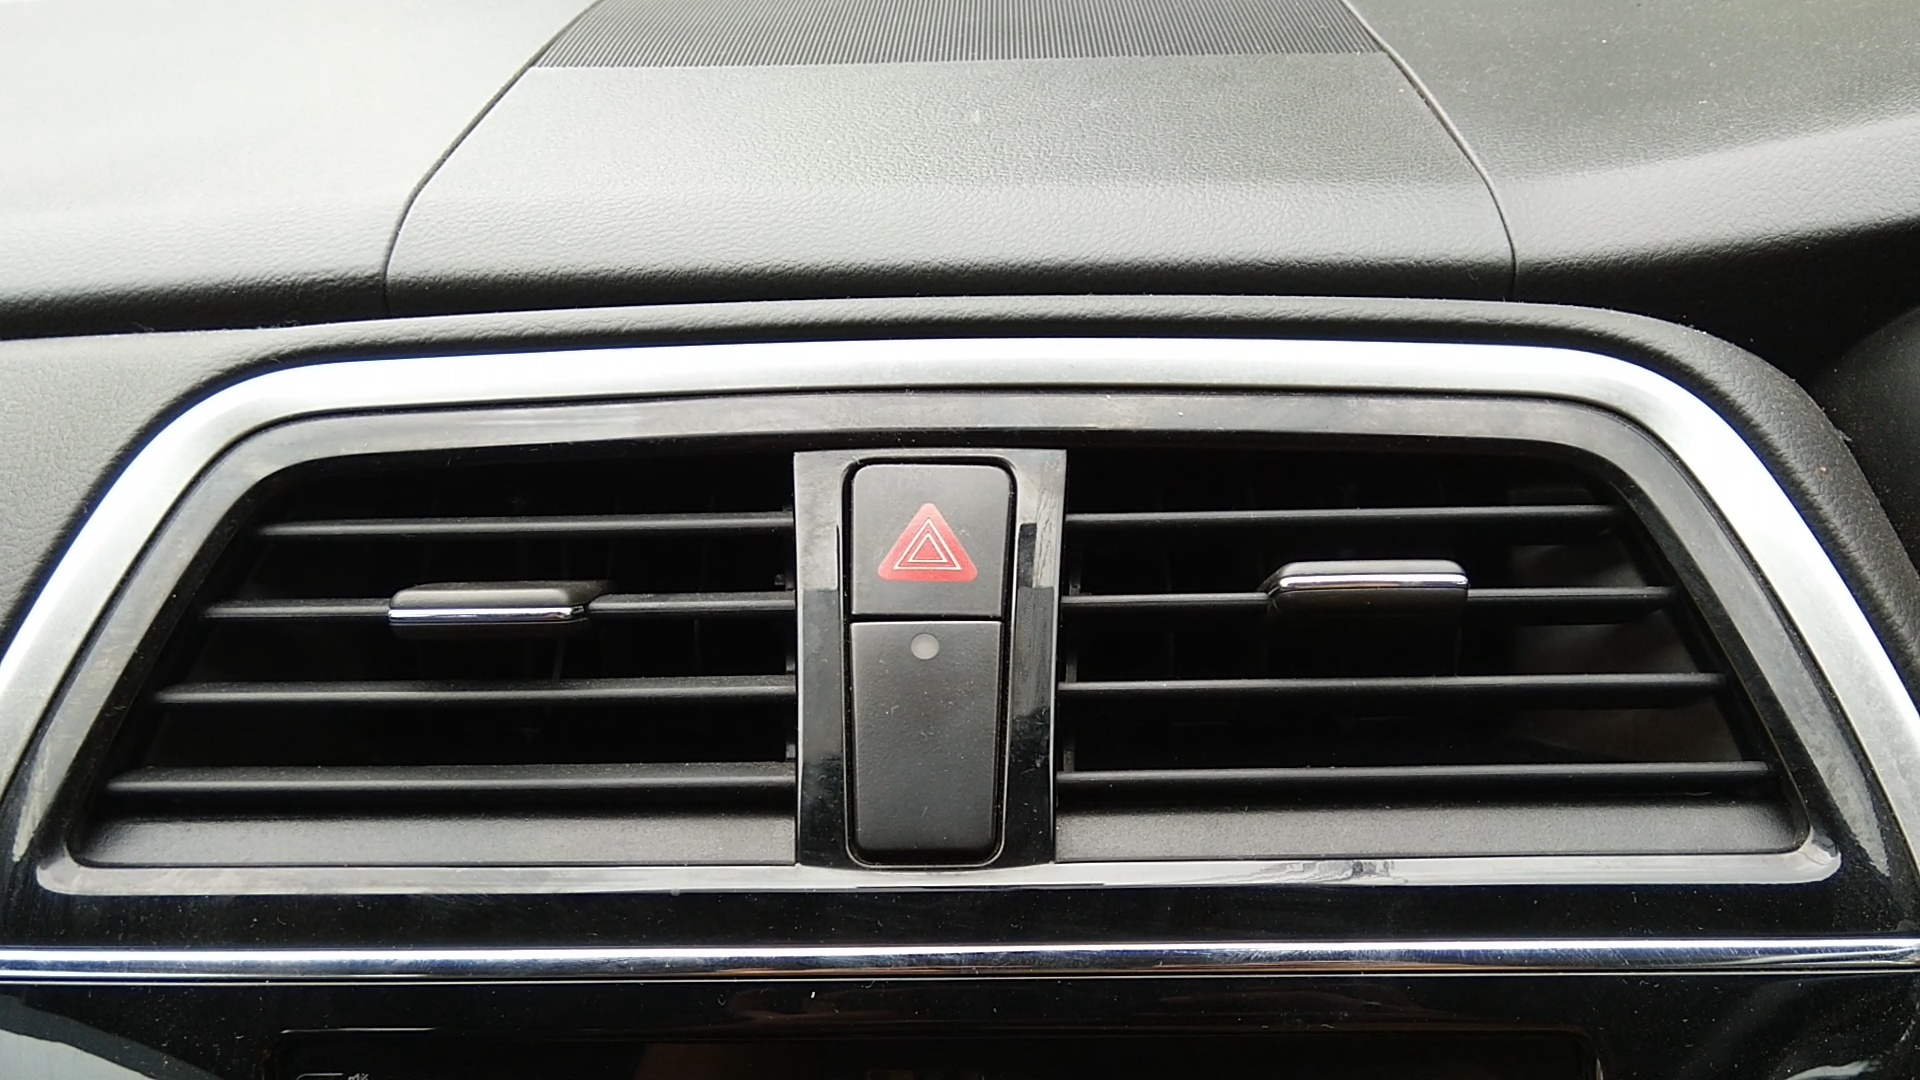parking_button: (836, 452, 1021, 642)
